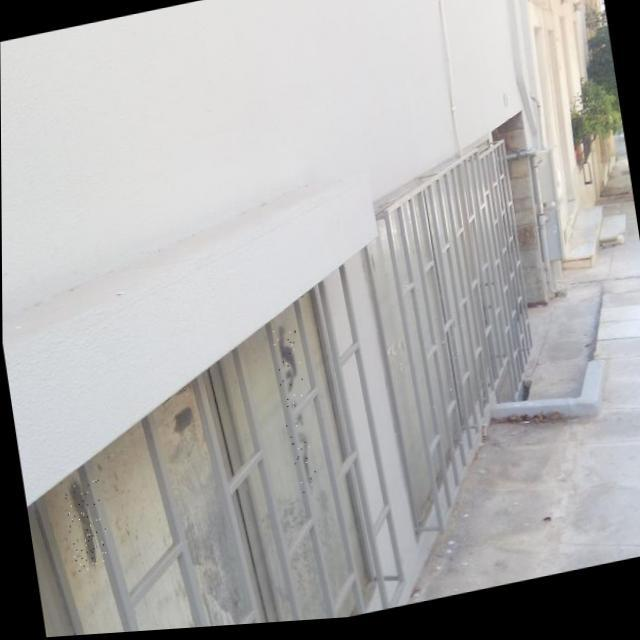-: (271, 326, 318, 500), (61, 480, 110, 574)
